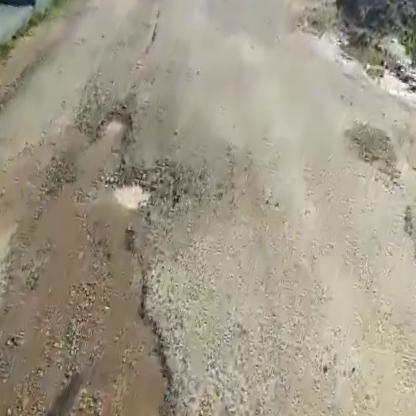pothole: (107, 157, 192, 238), (91, 103, 139, 151)
